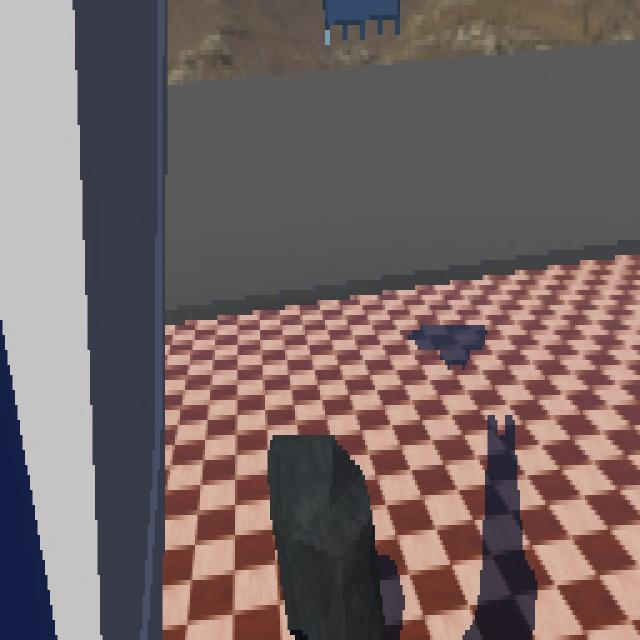rock: (265, 430, 385, 640)
